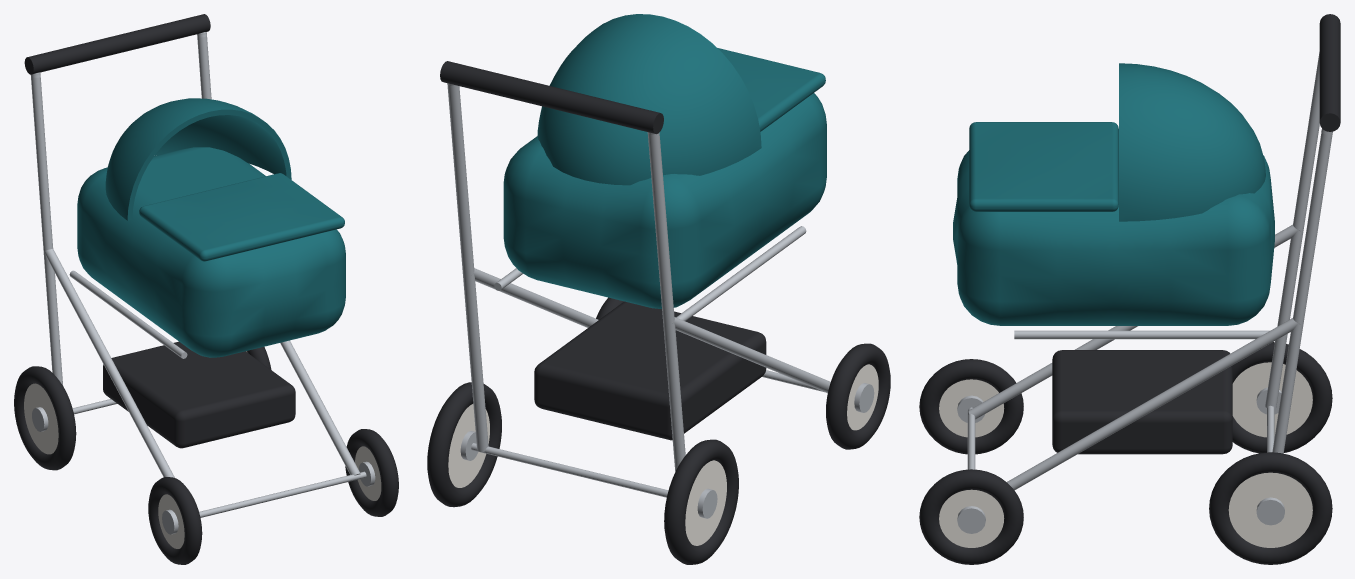
File: stroller.glb
The picture shows the model from 3 angles, left to right: view 1: azimuth 30°, elevation 25°; view 2: azimuth 150°, elevation 25°; view 3: azimuth 270°, elevation 25°; orthographic projection. The views are drawn at different scales.
Visible parts, largest first — view 1: stroller_fabric, stroller_dark, stroller_fabric_soft, stroller_metal, stroller_white; view 2: stroller_dark, stroller_fabric, stroller_fabric_soft, stroller_metal, stroller_white; view 3: stroller_dark, stroller_fabric, stroller_fabric_soft, stroller_metal, stroller_white.
Part boxes in pixels (left/top/right/bottom): stroller_fabric: left=77, top=147, right=345, bottom=357; stroller_dark: left=14, top=14, right=398, bottom=564; stroller_fabric_soft: left=105, top=98, right=344, bottom=261; stroller_metal: left=30, top=32, right=375, bottom=534; stroller_white: left=24, top=351, right=381, bottom=548; stroller_dark: left=427, top=61, right=890, bottom=564; stroller_fabric: left=503, top=93, right=826, bottom=308; stroller_fabric_soft: left=537, top=14, right=825, bottom=185; stroller_metal: left=447, top=83, right=874, bottom=518; stroller_white: left=448, top=364, right=878, bottom=545; stroller_dark: left=919, top=14, right=1340, bottom=564; stroller_fabric: left=953, top=150, right=1274, bottom=325; stroller_fabric_soft: left=969, top=63, right=1265, bottom=221; stroller_metal: left=957, top=52, right=1332, bottom=533; stroller_white: left=939, top=362, right=1312, bottom=547.
Size of the model in its own units: 0.6 by 1.05 by 0.9.
